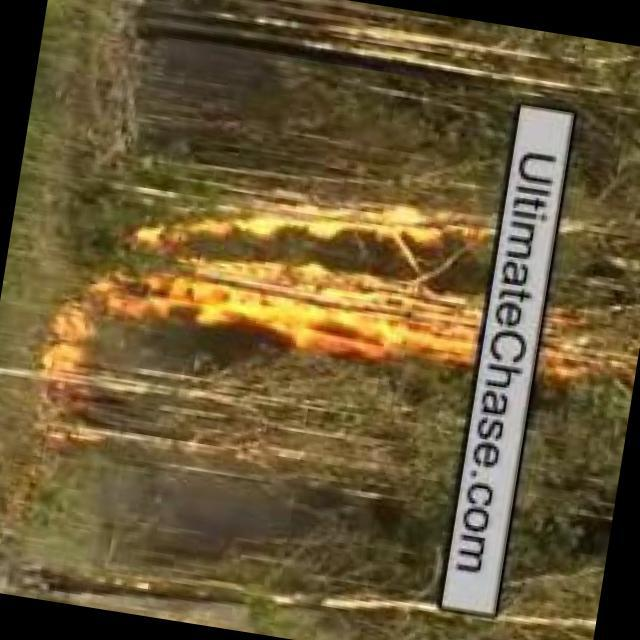Fire: (115, 163, 497, 396), (254, 1, 540, 113), (31, 269, 116, 412), (536, 300, 634, 390)
